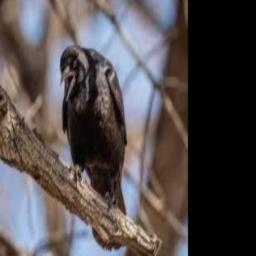Crow: (59, 44, 128, 251)
